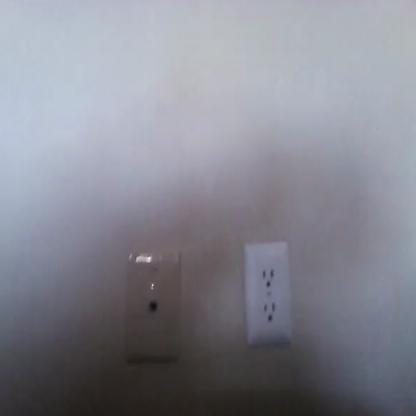OUTLET: (245, 243, 291, 342)
